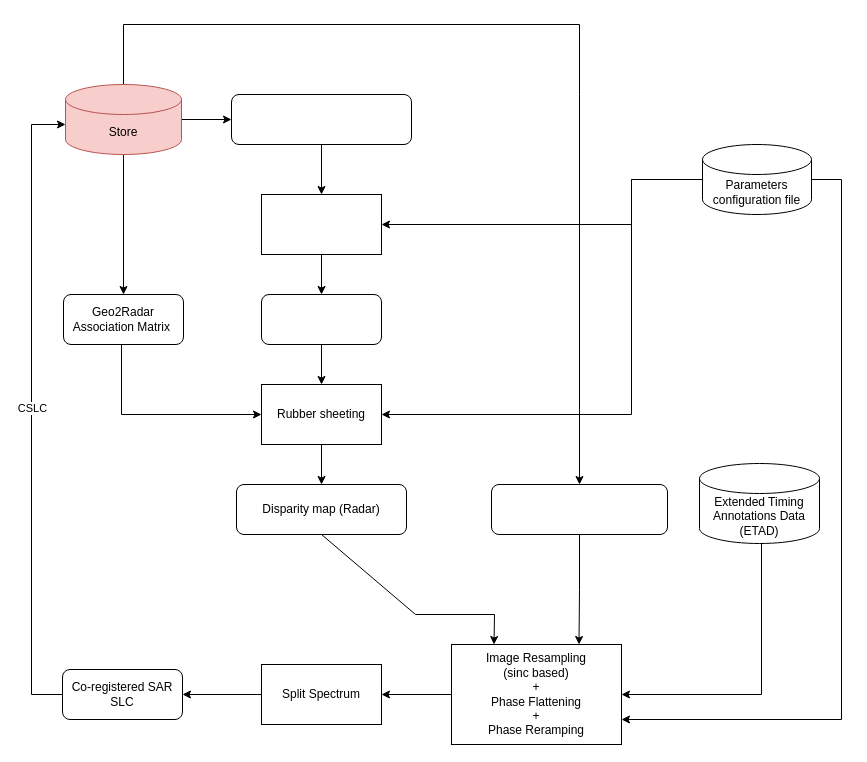
The diagram is 867 pixels wide and 762 high, and some of its shapes have lost their labels. Here are the shapes that lost their labels. From the top down, the centre of each, then its label:
(321,119): Pre-coregistered (model-based), calibrated, Deramped, Demodulated SAR SLC
(321,224): Image matching / ESD
(321,319): residual disparity map
(579,509): Original calibrated, Deramped, Demodulated SAR SLC
